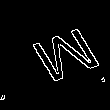M_SE: (13, 22, 97, 88)
